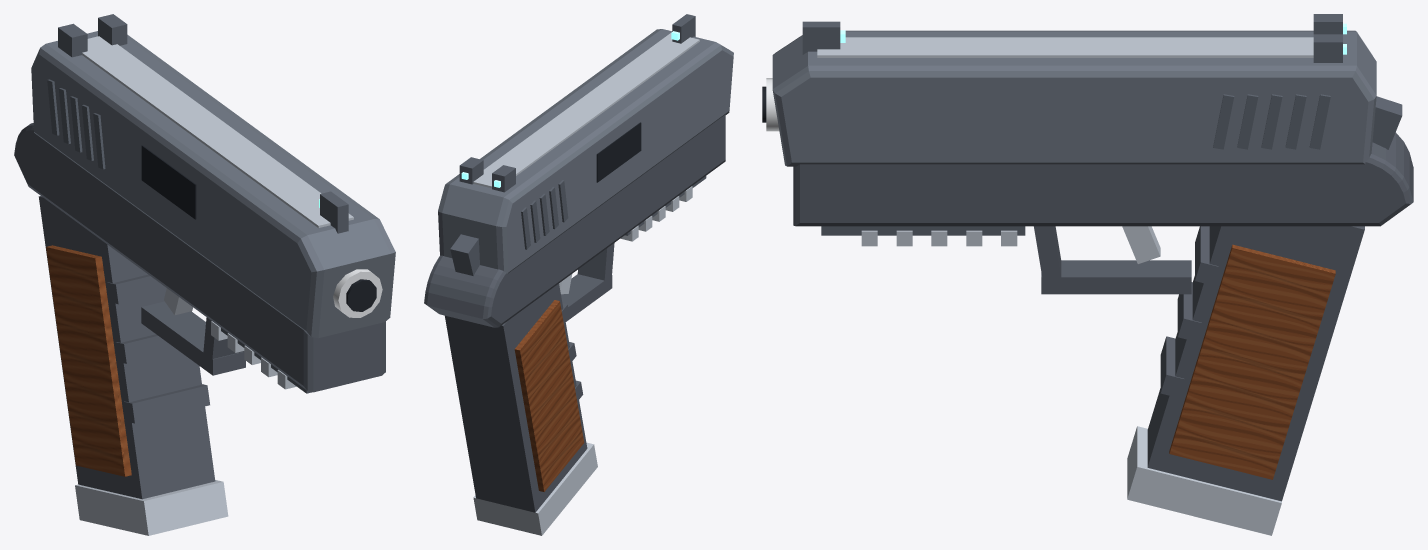
File: weapon_pistol_classic.glb
3 views of the same model, side by side, from view 1: azimuth 30°, elevation 25°; view 2: azimuth 150°, elevation 25°; view 3: azimuth 270°, elevation 25° (orthographic). The views are drawn at different scales.
Parts seen in each view (by area): view 1: slide, PistolGrip, PistolFrame, Weapon_pistol, magazine; view 2: slide, PistolGrip, PistolFrame, Weapon_pistol, magazine; view 3: slide, PistolGrip, PistolFrame, Weapon_pistol, magazine.
Boxes of the visible parts, x1,y1,x2,y2 form: slide: (31,14,395,338); PistolGrip: (38,196,215,499); PistolFrame: (14,123,385,392); Weapon_pistol: (141,269,382,393); magazine: (75,480,228,535); slide: (438,14,733,274); PistolGrip: (445,283,587,512); PistolFrame: (424,114,725,327); Weapon_pistol: (450,176,706,320); magazine: (473,442,597,535); slide: (772,14,1376,166); PistolGrip: (1147,226,1364,501); PistolFrame: (793,132,1413,226); Weapon_pistol: (762,78,1402,294); magazine: (1127,426,1281,535).
Bounding box in the file's own units: 0.04 × 0.2021 × 0.2428.
Materials: 8 (1 with a texture image).
